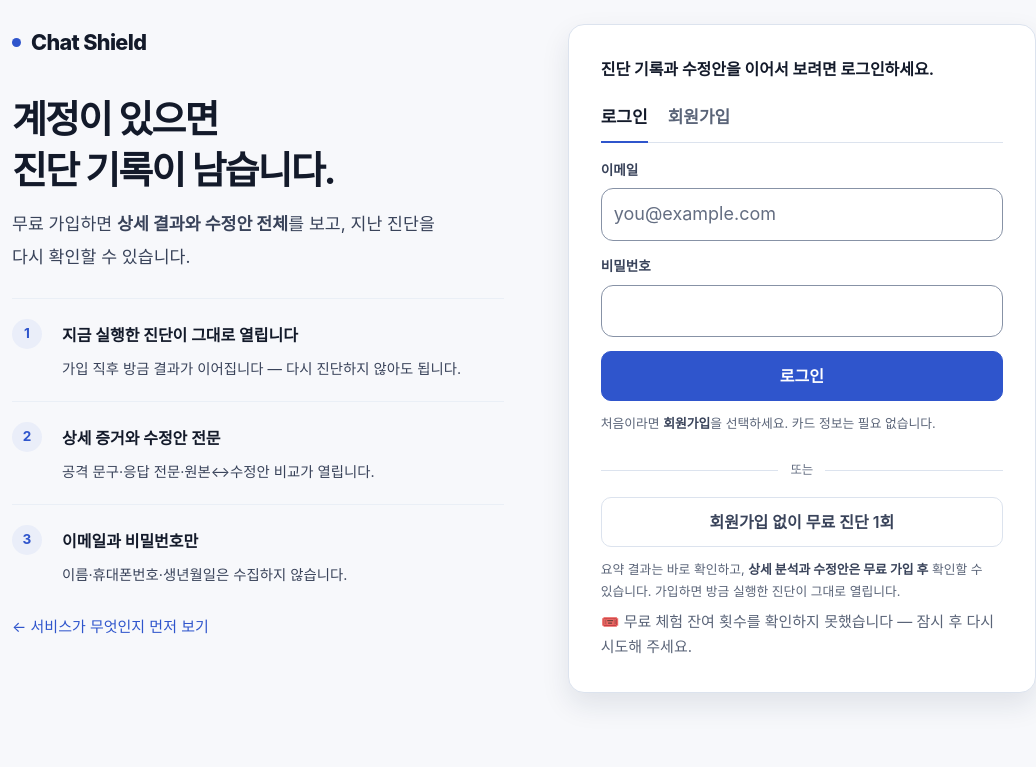
Test: 첫 화면 › 가입 탭은 수집하지 않는 항목과 해시 저장을 말한다
The image size is (1036, 767).
Click the tab "회원가입": (699, 119) [668,95,730,143]
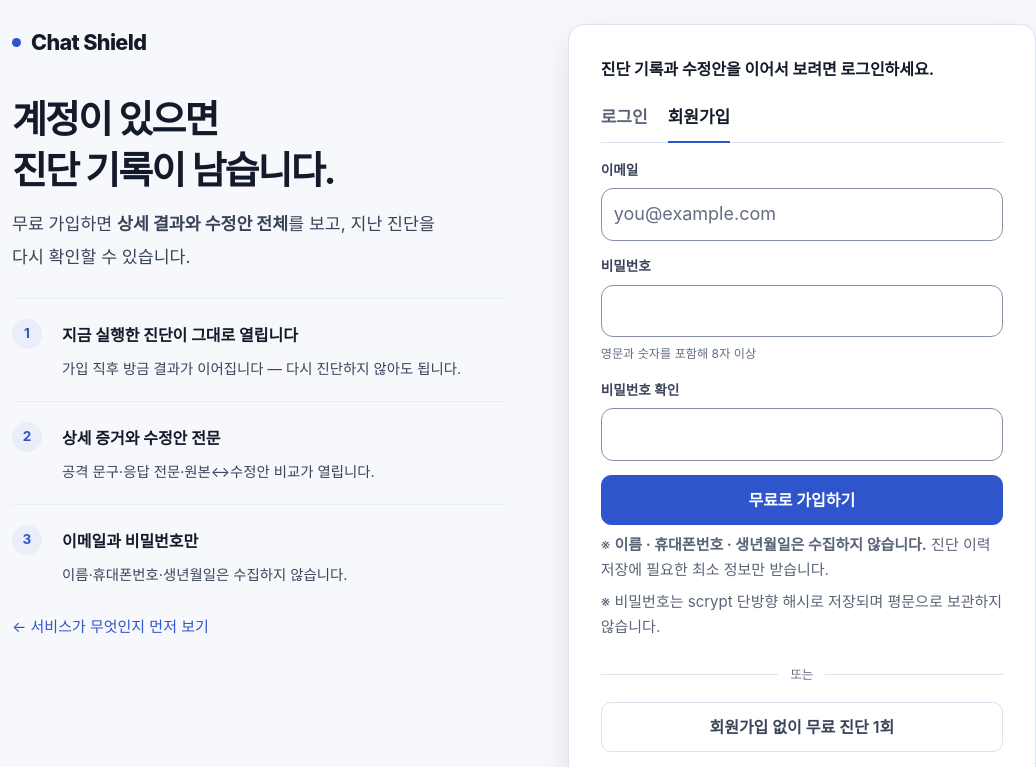
Expected: the text "이름 · 휴대폰번호 · 생년월일은 수집하지 않습니다." is shown, [614,535,927,554]
Expected: the text "※ 비밀번호는 scrypt 단방향 해시로 저장되며 평문으로 보관하지 않습니다." is shown, [601,590,1003,640]
